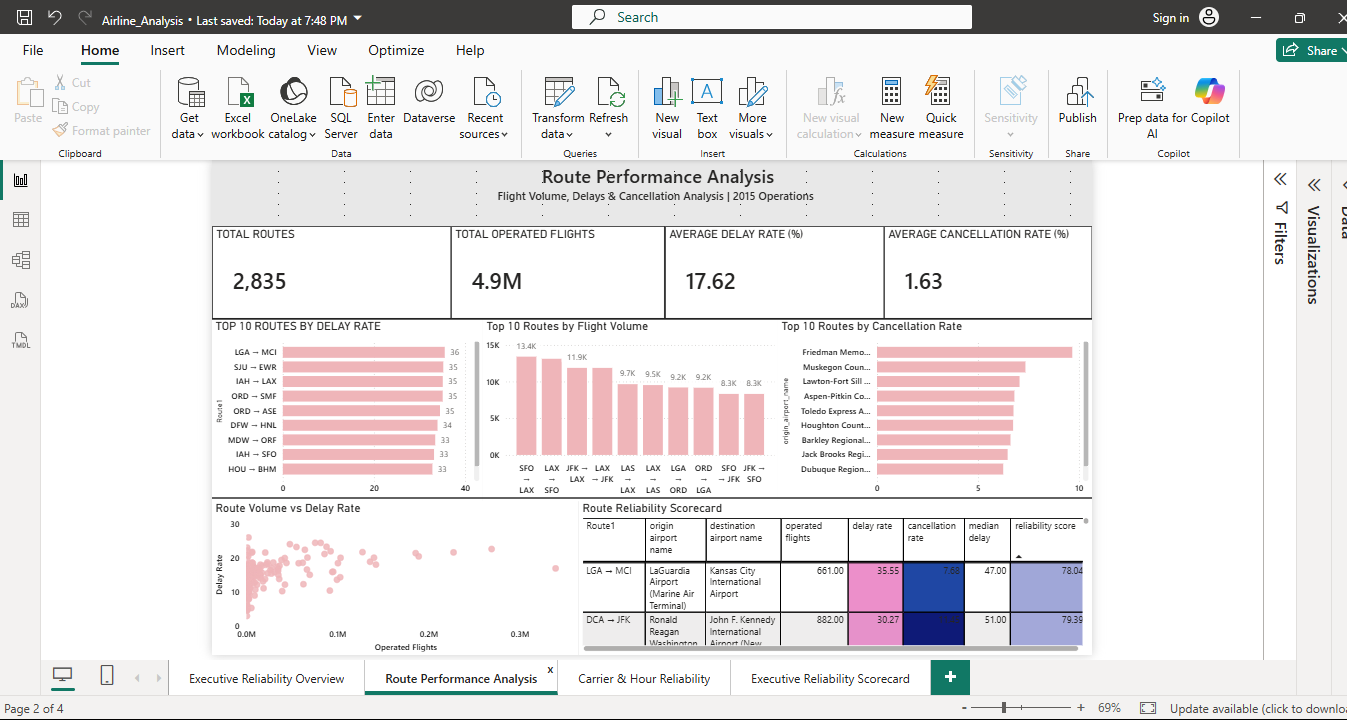

What the dashboard file says about the page in this screenshot:
{"tool":"powerbi","page":{"name":"Route Performance Analysis","canvas":[1280,720],"ordinal":1},"visuals":[{"type":"textbox","box":[10.3,0,1270.2,96],"z":0},{"type":"cardVisual","title":"TOTAL OPERATED FLIGHTS","fields":{"Data":["Sum(airline_analysis final_route_scorecard_named.operated_flights)"]},"box":[347.6,96,311.3,135.3],"z":1000},{"type":"cardVisual","title":"AVERAGE DELAY RATE (%)","fields":{"Data":["Avg(airline_analysis final_route_scorecard_named.delay_rate)"]},"box":[658.9,96,318.5,135.3],"z":2000},{"type":"cardVisual","title":"AVERAGE CANCELLATION RATE (%)","fields":{"Data":["Avg(airline_analysis final_route_scorecard_named.cancellation_rate)"]},"box":[977.5,96,302.5,135.3],"z":3000},{"type":"cardVisual","title":"TOTAL ROUTES","fields":{"Data":["Count(airline_analysis final_route_scorecard_named.route)"]},"box":[0,96,347.6,135.3],"z":4000},{"type":"clusteredBarChart","title":"TOP 10 ROUTES BY DELAY RATE","fields":{"Y":["Avg(airline_analysis final_route_scorecard_named.delay_rate)"],"Category":["airline_analysis final_route_scorecard_named.Route1"]},"box":[0,231.3,394.2,264.7],"z":5000},{"type":"lineStackedColumnComboChart","title":"Top 10 Routes by Flight Volume","fields":{"Category":["airline_analysis final_route_scorecard_named.Route1"],"Y":["Sum(airline_analysis final_route_scorecard_named.operated_flights)"]},"box":[394.2,231.3,429.1,264.7],"z":6000},{"type":"clusteredBarChart","title":"Top 10 Routes by Cancellation Rate","fields":{"Category":["airline_analysis final_route_scorecard_named.origin_airport_name"],"Y":["Avg(airline_analysis final_route_scorecard_named.cancellation_rate)"]},"box":[823.3,231.3,456.7,264.7],"z":7000},{"type":"scatterChart","title":"Route Volume vs Delay Rate","fields":{"X":["Sum(airline_analysis final_route_scorecard_named.operated_flights)"],"Y":["Avg(airline_analysis final_route_scorecard_named.delay_rate)"],"Category":["airline_analysis final_route_scorecard_named.origin_airport_name"]},"box":[0,496.2,533.2,224.5],"z":8000},{"type":"tableEx","title":"Route Reliability Scorecard","fields":{"Values":["airline_analysis final_route_scorecard_named.Route1","airline_analysis final_route_scorecard_named.origin_airport_name","airline_analysis final_route_scorecard_named.destination_airport_name","Sum(airline_analysis final_route_scorecard_named.operated_flights)","Sum(airline_analysis final_route_scorecard_named.delay_rate)","Sum(airline_analysis final_route_scorecard_named.cancellation_rate)","Sum(airline_analysis final_route_scorecard_named.median_delay)","Sum(airline_analysis final_route_scorecard_named.reliability_score)"]},"box":[533.2,496.2,747.3,224.5],"z":9000},{"type":"shape","box":[0,81.5,1280,299.6],"z":9001},{"type":"shape","box":[0,305.5,1280,372.4],"z":9002}]}

Visuals, with their boxes on the page's 1280x720 design canvas (x1, y1, x2, y2). These are canvas units, not pixel positions in the 1347x720 screenshot, which may show the page scaled, cropped or inside an application window:
textbox: x1=10, y1=0, x2=1280, y2=96
"TOTAL OPERATED FLIGHTS" cardVisual: x1=348, y1=96, x2=659, y2=231
"AVERAGE DELAY RATE (%)" cardVisual: x1=659, y1=96, x2=977, y2=231
"AVERAGE CANCELLATION RATE (%)" cardVisual: x1=978, y1=96, x2=1280, y2=231
"TOTAL ROUTES" cardVisual: x1=0, y1=96, x2=348, y2=231
"TOP 10 ROUTES BY DELAY RATE" clusteredBarChart: x1=0, y1=231, x2=394, y2=496
"Top 10 Routes by Flight Volume" lineStackedColumnComboChart: x1=394, y1=231, x2=823, y2=496
"Top 10 Routes by Cancellation Rate" clusteredBarChart: x1=823, y1=231, x2=1280, y2=496
"Route Volume vs Delay Rate" scatterChart: x1=0, y1=496, x2=533, y2=721
"Route Reliability Scorecard" tableEx: x1=533, y1=496, x2=1280, y2=721
shape: x1=0, y1=82, x2=1280, y2=381
shape: x1=0, y1=306, x2=1280, y2=678
